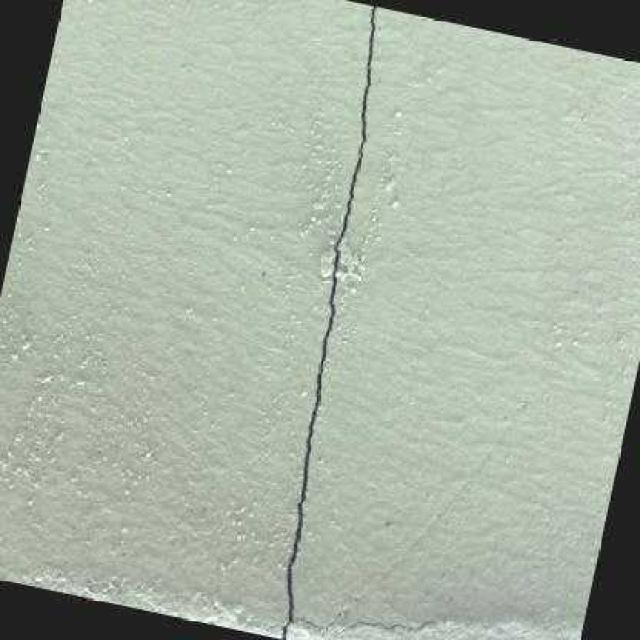D00: (276, 3, 378, 637)
